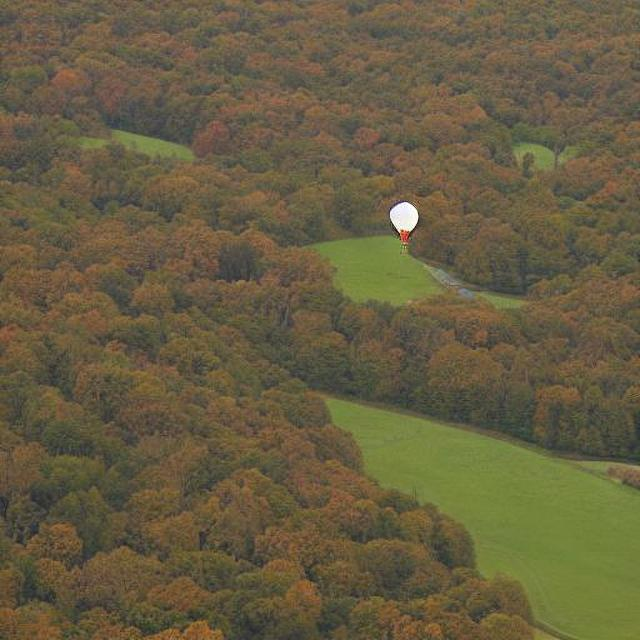balloon: (388, 199, 418, 237)
